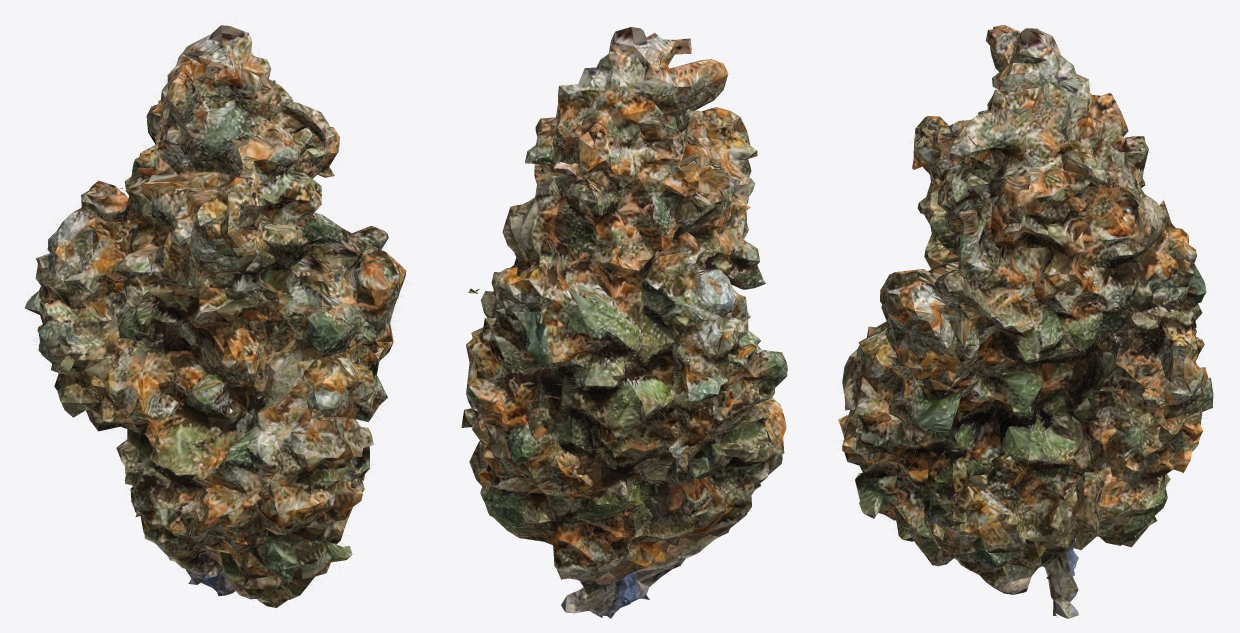
Rendered from arthur_haze-v1.glb.
The picture shows the model from 3 angles, left to right: view 1: azimuth 30°, elevation 25°; view 2: azimuth 150°, elevation 25°; view 3: azimuth 270°, elevation 25°; orthographic projection. The views are drawn at different scales.
Parts seen in each view (by area): view 1: Arthur_Haze; view 2: Arthur_Haze; view 3: Arthur_Haze.
Boxes of the visible parts, x1,y1,x2,y2 form: Arthur_Haze: (25,25,406,607); Arthur_Haze: (461,27,787,618); Arthur_Haze: (838,25,1213,618).
Size of the model in its own units: 0.5661 by 1.01 by 0.6214.
2 materials, 1 textured.
